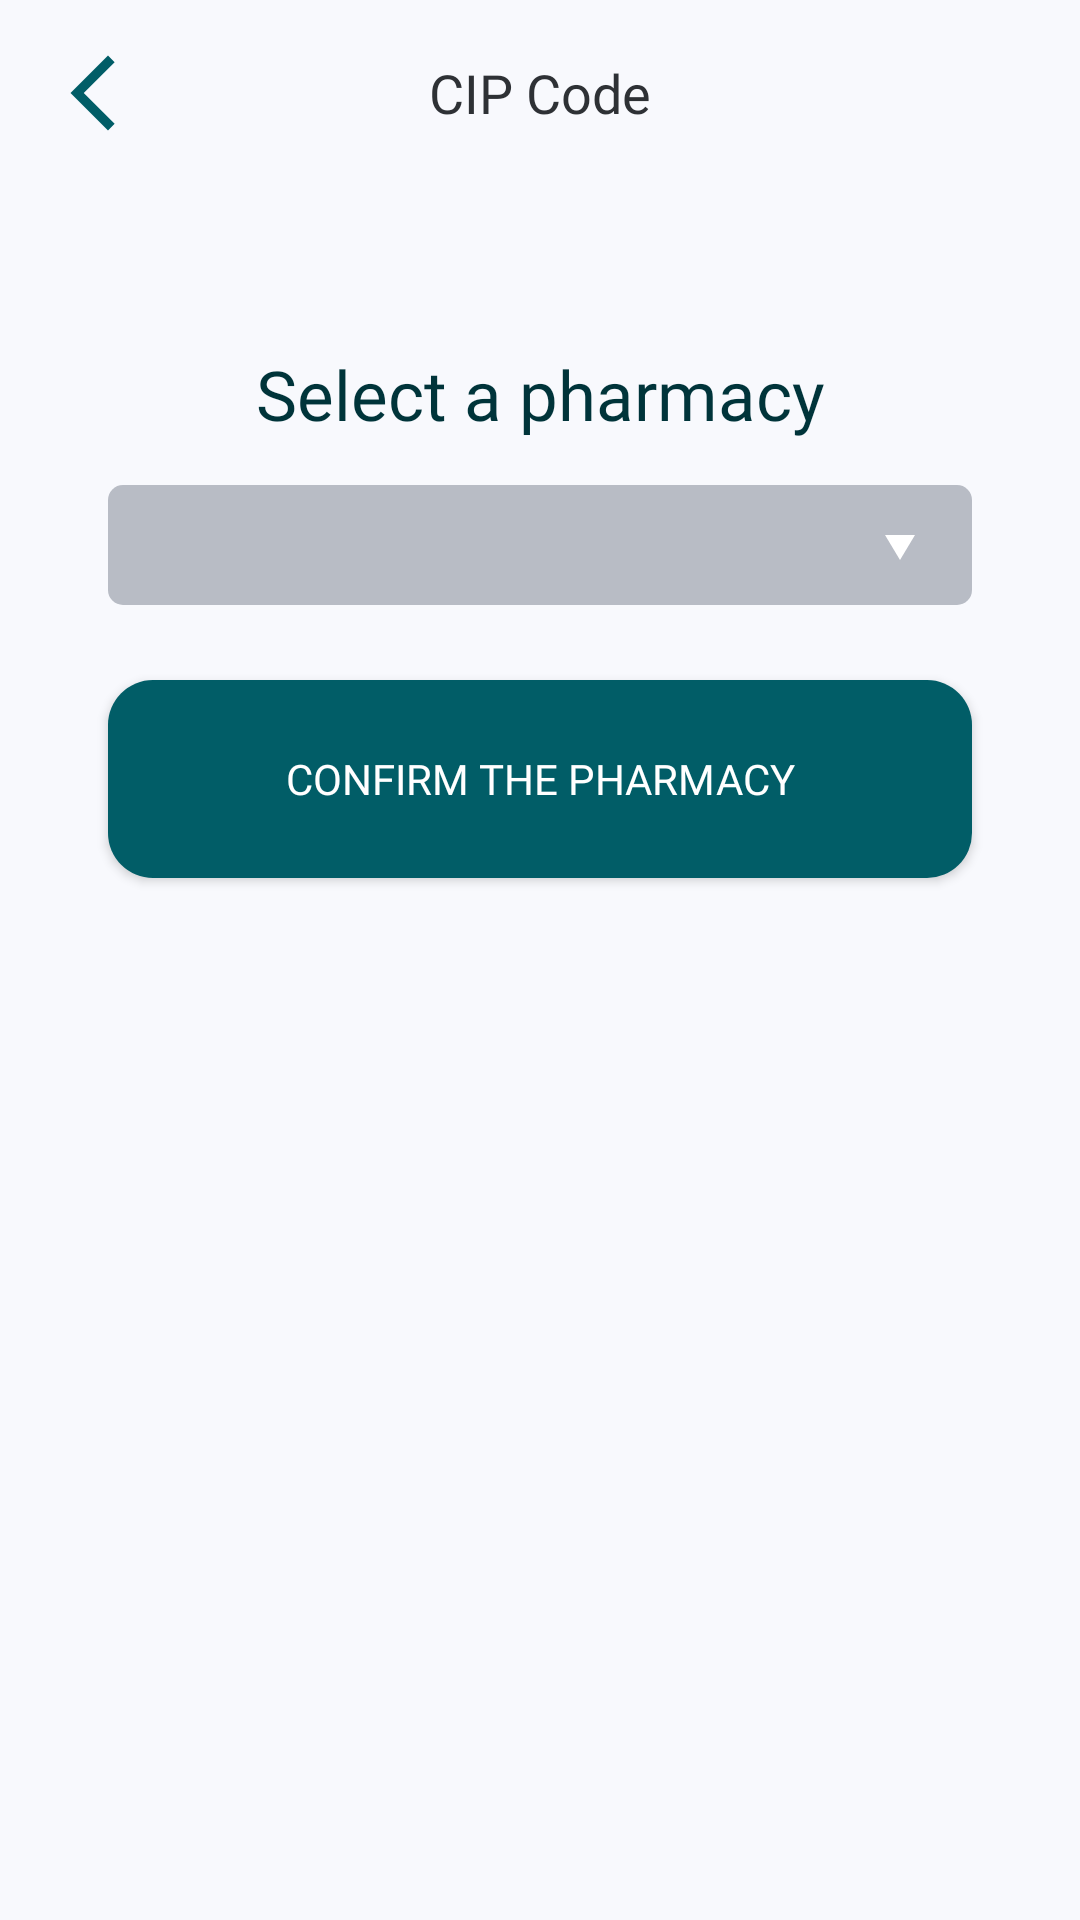

Icons on this 1080*1920 Android screen, each with the point to tap as [x,y]:
arrow back: [92,93]
